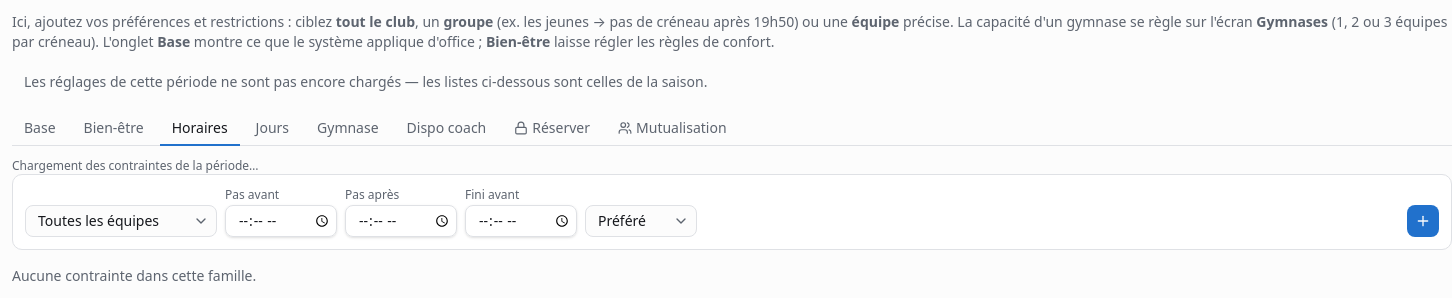
Scenario: ConstraintsStep — inherited section lives inside the family tabs (period mode) › waits for the period plan before offering the reservation panel (no write on the base plan)
Step 1. Click the button "Réserver" → (552, 129), box [502,112,602,146]
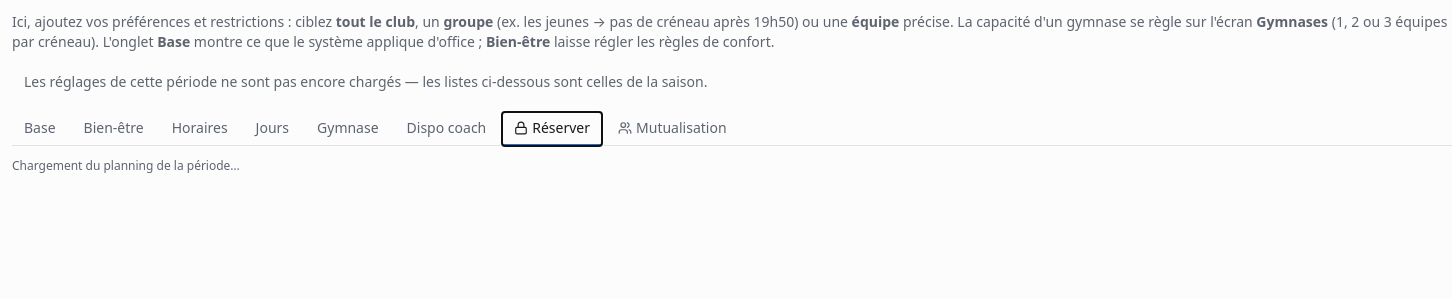
expect the text "Chargement du planning de la période…" is shown: met, box [12,157,240,174]
